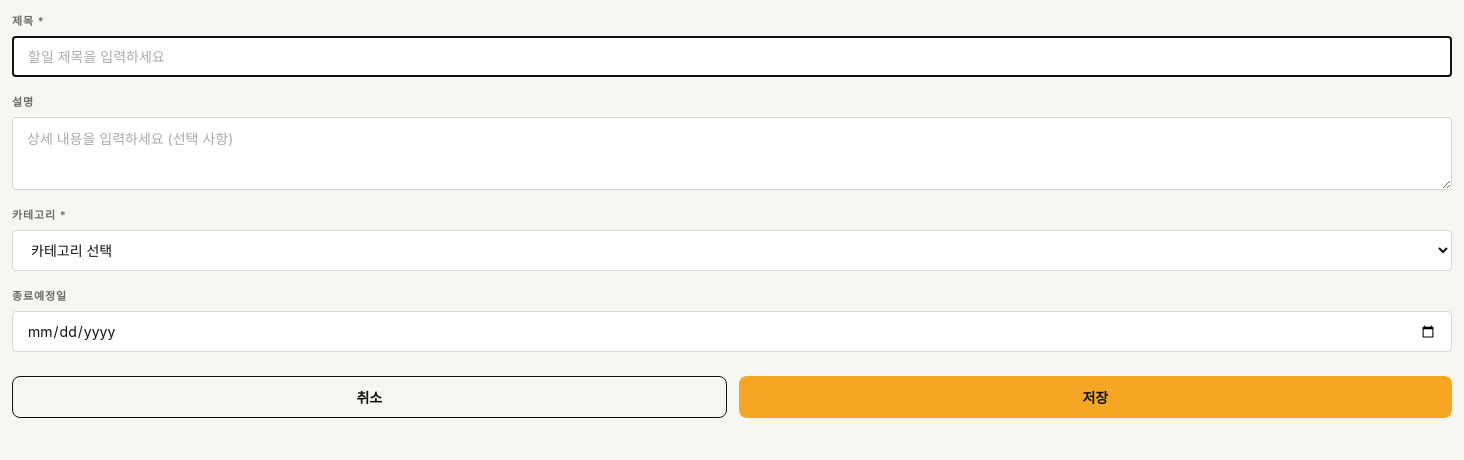
Test: TodoForm › 카테고리 미선택 제출 시 에러 메시지 표시
In the field with placeholder "할일 제목을 입력하세요": [732, 56] box [12,36,1452,77], type "새 할일"
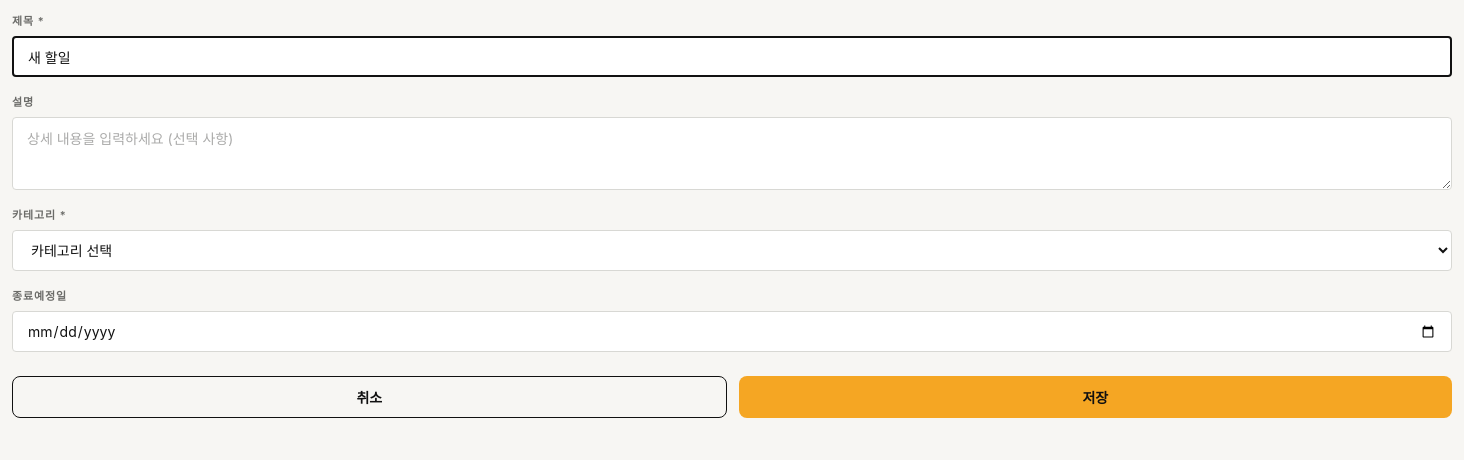
Click the button "저장": [1095, 397] box [738,376,1452,418]
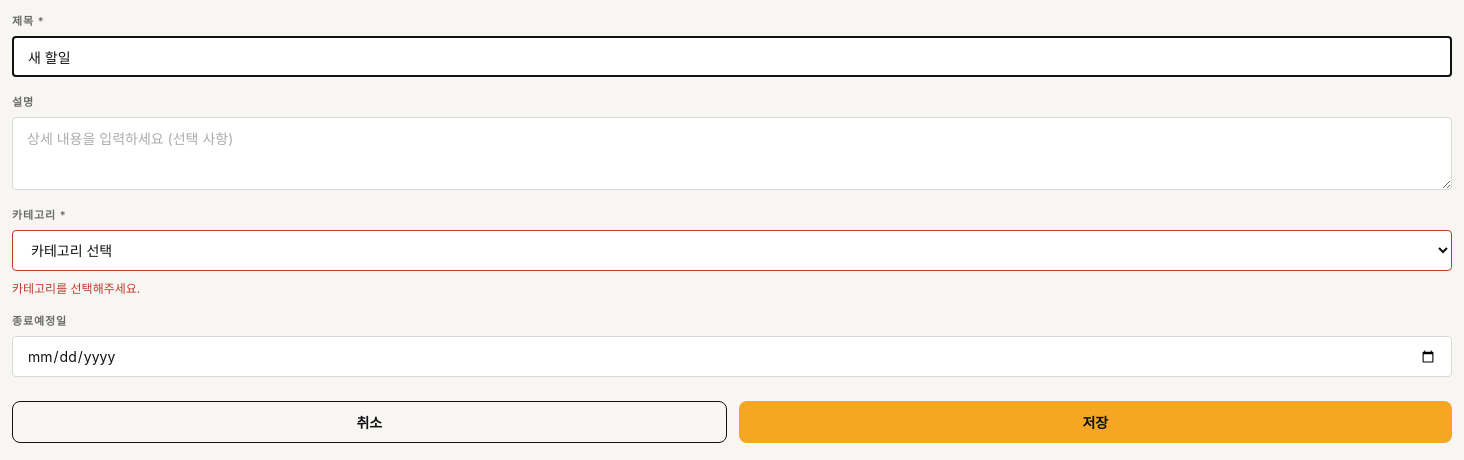
Check: the text "카테고리를 선택해주세요." is shown, box [12,281,140,296]
